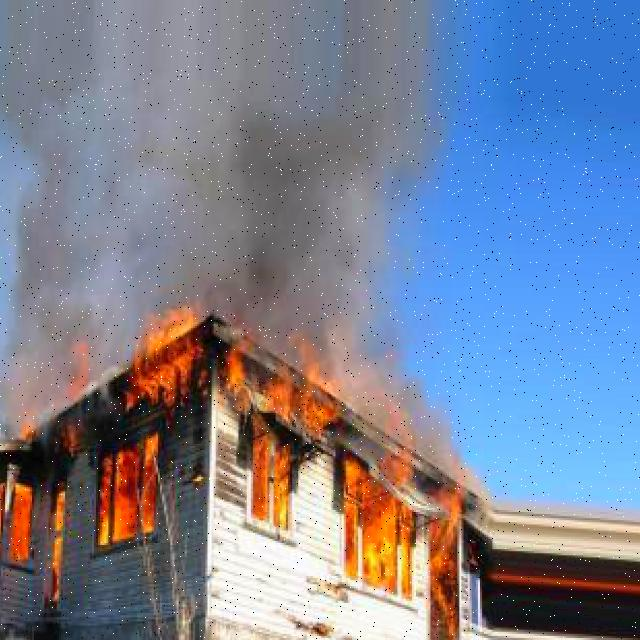fire: (222, 336, 337, 442), (348, 430, 418, 592), (115, 304, 199, 404), (424, 485, 474, 638), (96, 442, 160, 543), (249, 444, 294, 535), (7, 470, 40, 566), (63, 332, 96, 405), (14, 413, 38, 442)
smoke: (9, 103, 453, 381), (340, 306, 416, 432)
